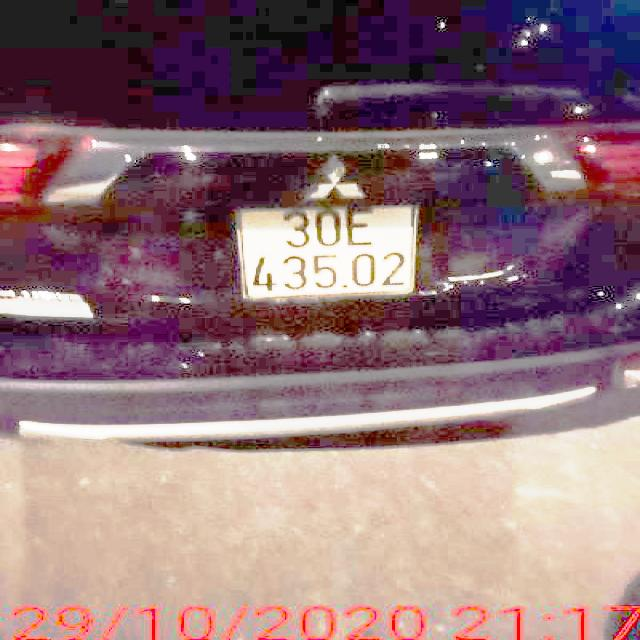license_plate: (235, 209, 414, 297)
